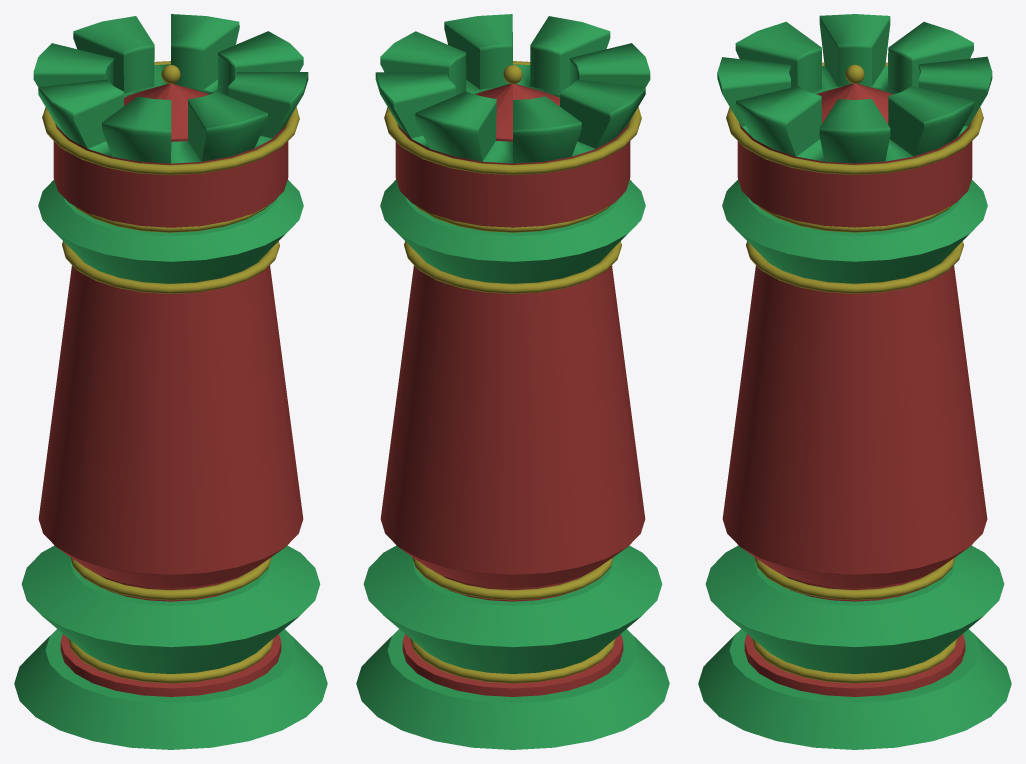
The model's file is Rook_fbx.fbx.
3 renders of one model, left to right at view 1: azimuth 30°, elevation 25°; view 2: azimuth 150°, elevation 25°; view 3: azimuth 270°, elevation 25°, orthographic.
Parts seen in each view (by area): view 1: Rook; view 2: Rook; view 3: Rook.
Boxes of the visible parts, bbox=[...] form: Rook: bbox=[14, 14, 327, 749]; Rook: bbox=[356, 14, 669, 749]; Rook: bbox=[698, 14, 1011, 749].
Size of the model in its own units: 0.0253 by 0.055 by 0.0253.
